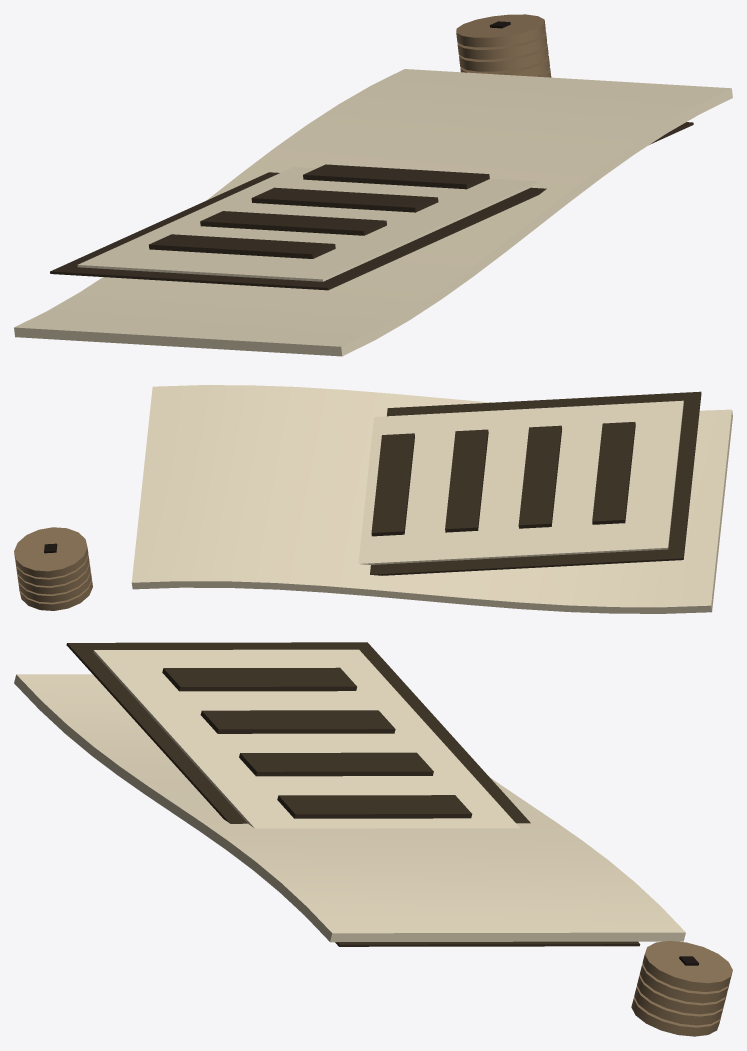
File: jiaozi.glb
3 renders of one model, top to bottom at view 1: azimuth 30°, elevation 25°; view 2: azimuth 150°, elevation 25°; view 3: azimuth 270°, elevation 25°, orthographic. The views are drawn at different scales.
Bounding box in the file's own units: 1.61 × 0.3189 × 1.43.
